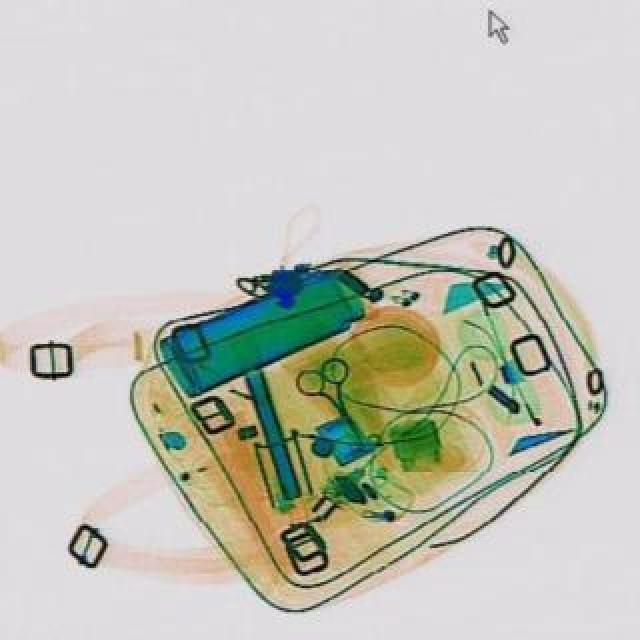pliers: (286, 350, 384, 456)
